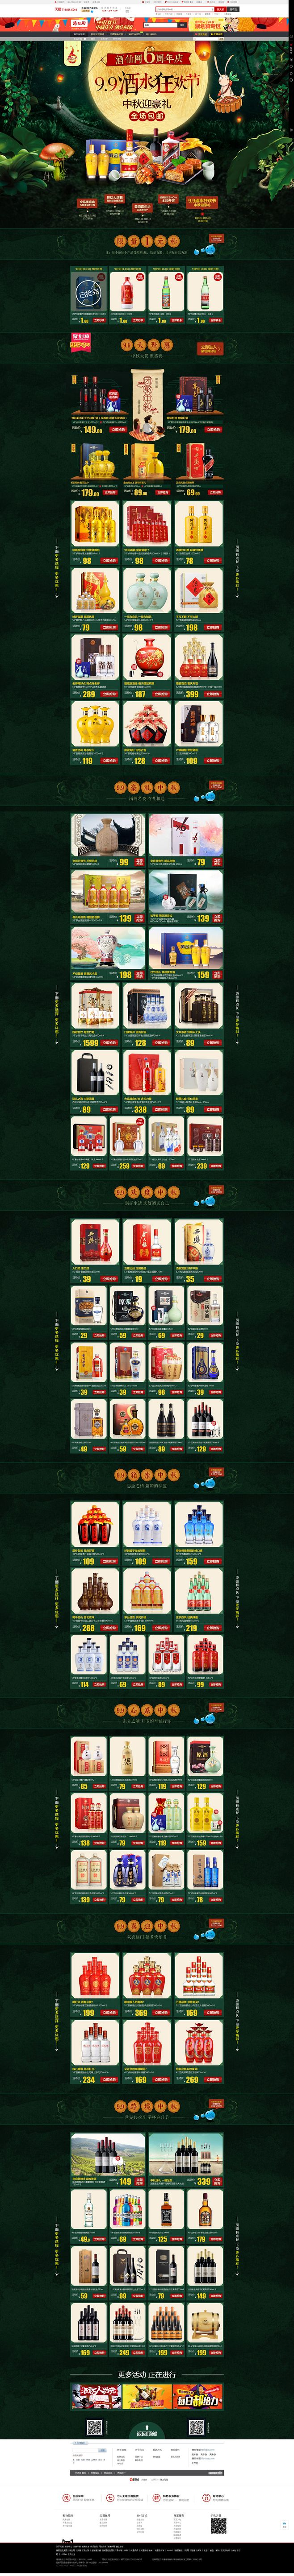floors: (56, 330, 240, 770), (56, 774, 238, 1173), (57, 1178, 237, 1454), (59, 2091, 238, 2359), (57, 1460, 238, 1694), (57, 1697, 237, 1906), (57, 1911, 237, 2086), (56, 227, 238, 327), (59, 2366, 240, 2413)
toutu: (0, 41, 294, 225)
